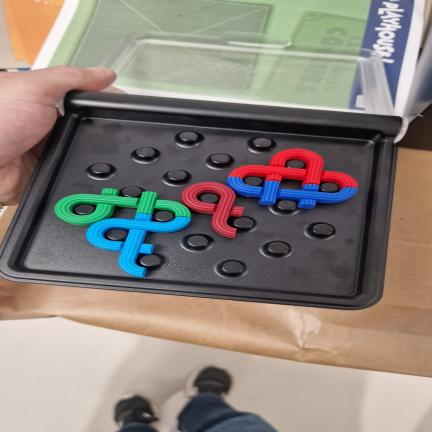B_SkyBlue: (87, 214, 190, 277)
C_DarkBlue: (226, 177, 357, 208)
D_Green: (55, 189, 191, 226)
E_Red: (228, 149, 357, 189)
J_DarkRed: (182, 182, 243, 238)
board: (0, 91, 401, 310)
hinge: (55, 102, 422, 133)
pin: (139, 254, 161, 268), (187, 235, 208, 248), (222, 261, 243, 274), (267, 242, 289, 254), (312, 224, 333, 236), (106, 229, 127, 241), (90, 163, 110, 175), (167, 170, 187, 182), (233, 217, 253, 229), (73, 204, 94, 215), (154, 211, 175, 222), (210, 153, 229, 165), (135, 147, 155, 158), (122, 187, 142, 198), (179, 132, 198, 143), (252, 138, 271, 149), (320, 182, 339, 193), (277, 200, 296, 211), (243, 176, 263, 186), (199, 193, 219, 203), (285, 160, 305, 169)
